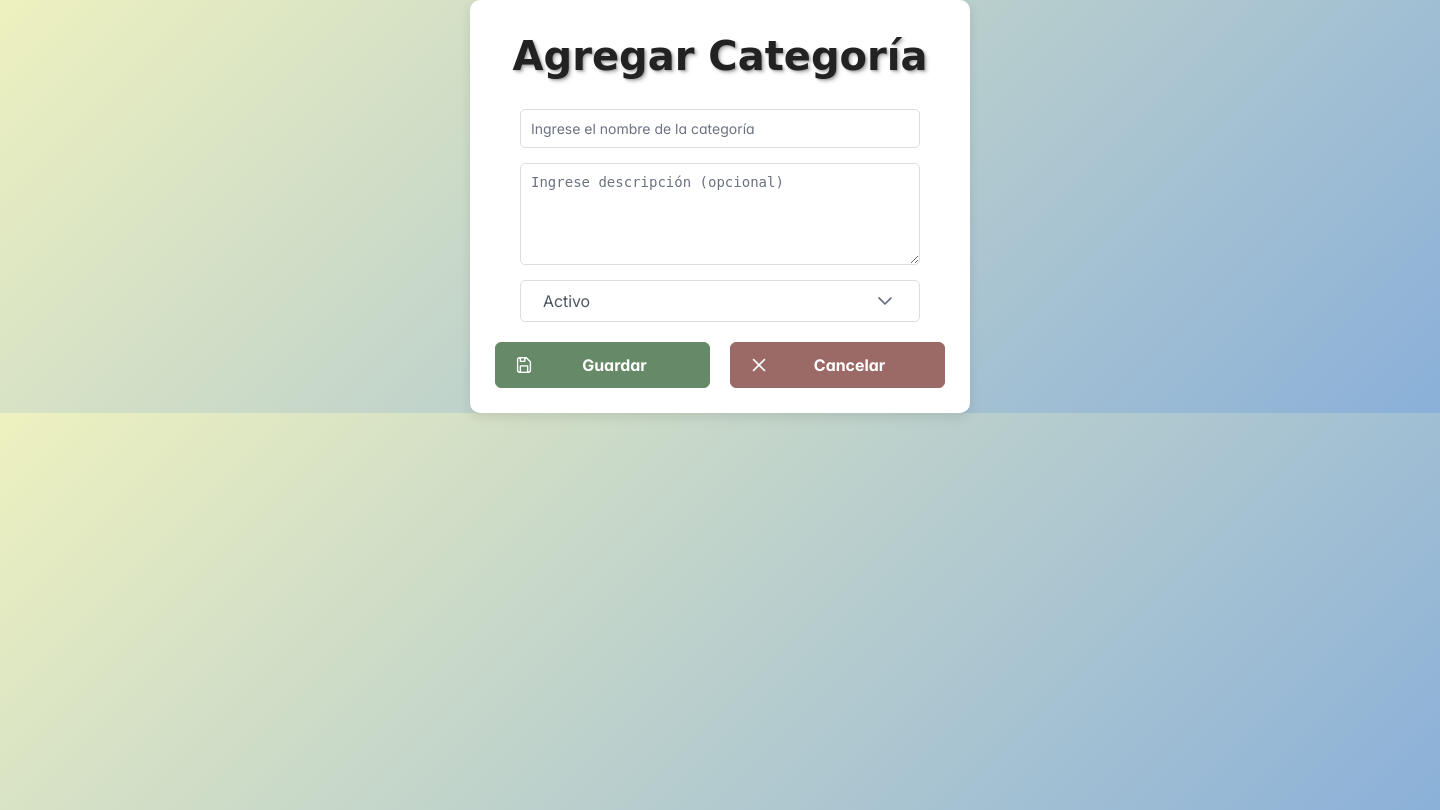
Test: CategoryForm › Muestra errores cuando faltan campos obligatorios
# Simula el envío del formulario sin completar el campo obligatorio
Step 1. Click the button "Guardar" → [602, 365], box [495, 342, 710, 388]
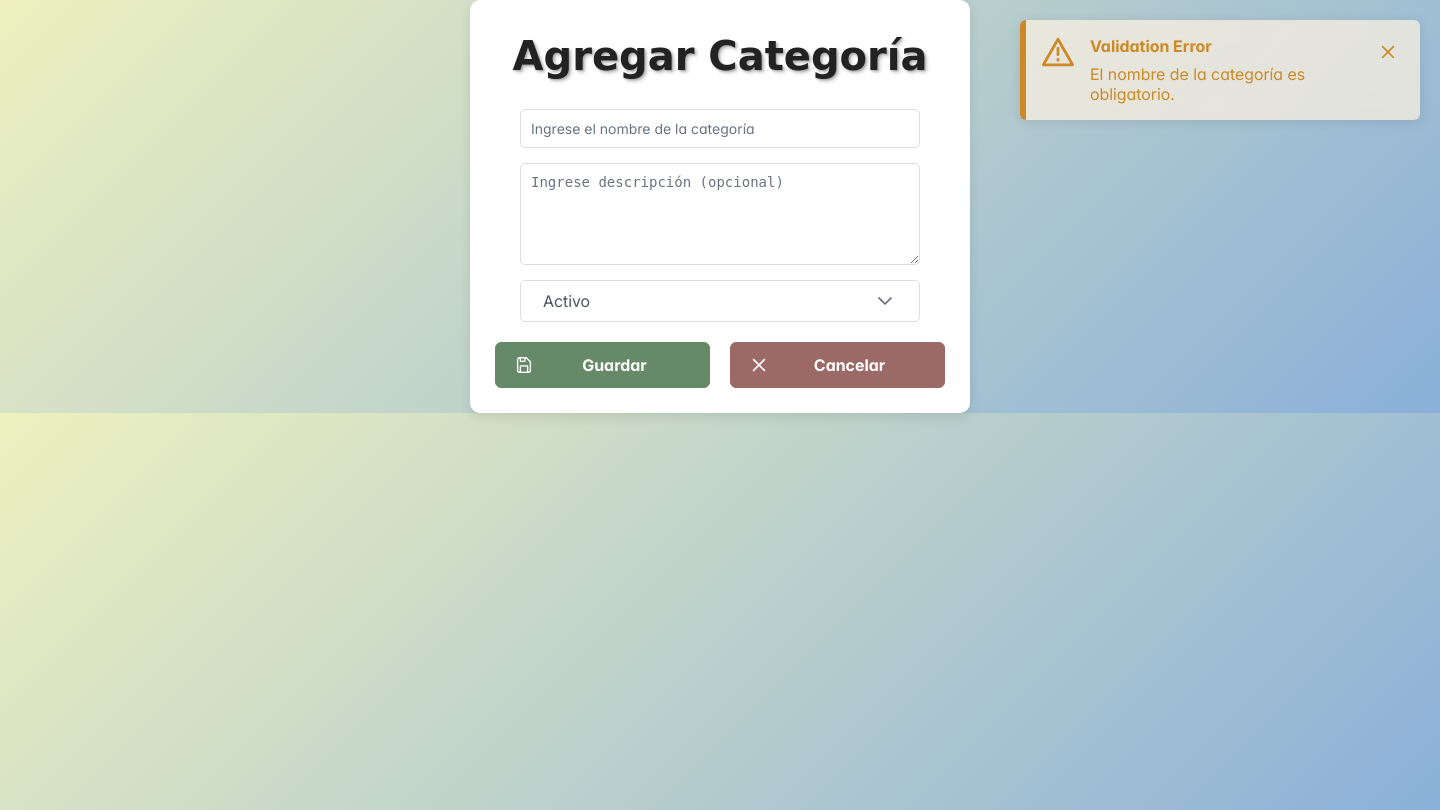
Result: the text "El nombre de la categoría es obligatorio." is shown at [1090, 64, 1305, 104]
